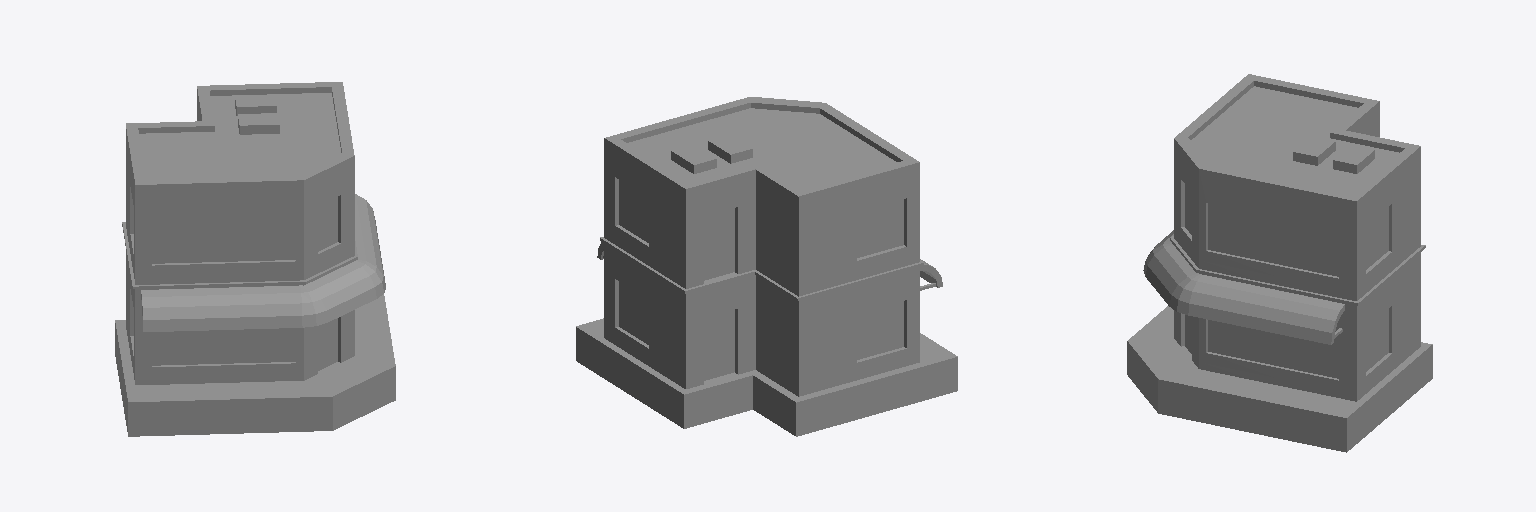
File: BuildingOBJ10.obj
3 renders of one model, left to right at view 1: azimuth 30°, elevation 25°; view 2: azimuth 150°, elevation 25°; view 3: azimuth 270°, elevation 25°, orthographic.
Parts seen in each view (by area): view 1: cabin_004.000_Untitled.000; view 2: cabin_004.000_Untitled.000; view 3: cabin_004.000_Untitled.000.
Boxes of the visible parts, x1,y1,x2,y2 form: cabin_004.000_Untitled.000: [115, 82, 395, 436]; cabin_004.000_Untitled.000: [576, 97, 957, 436]; cabin_004.000_Untitled.000: [1127, 74, 1432, 452].
Size of the model in its own units: 3.96 by 2.83 by 3.29.